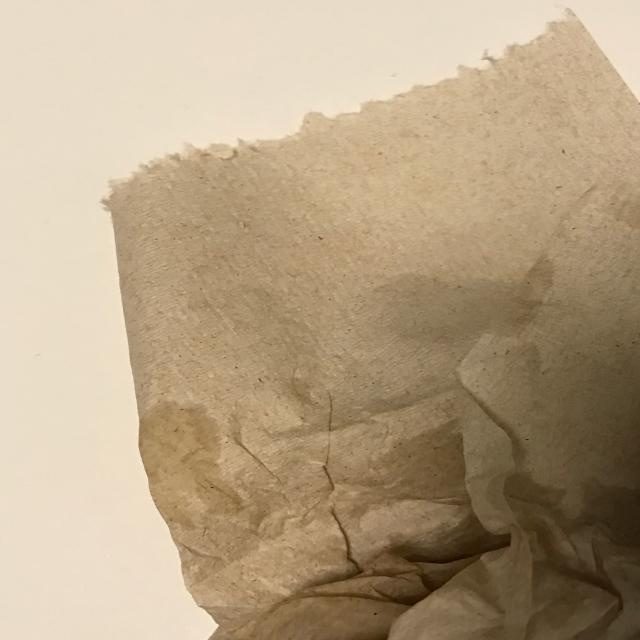trash: (101, 6, 640, 640)
